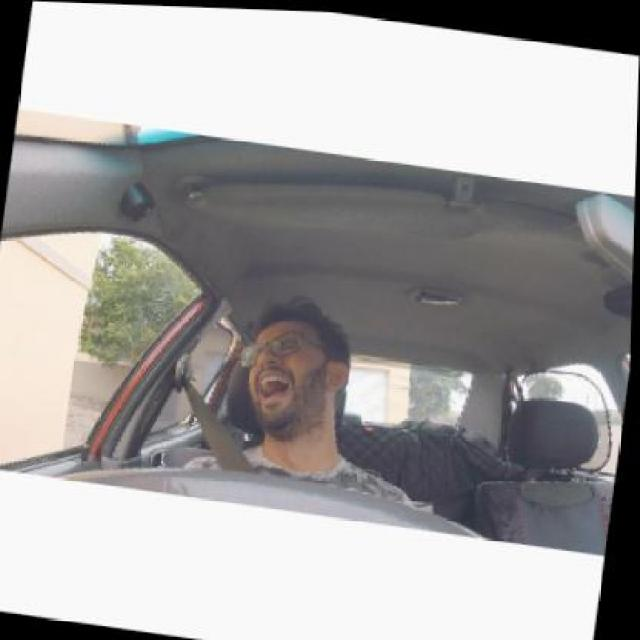drowsy: (232, 297, 356, 448)
